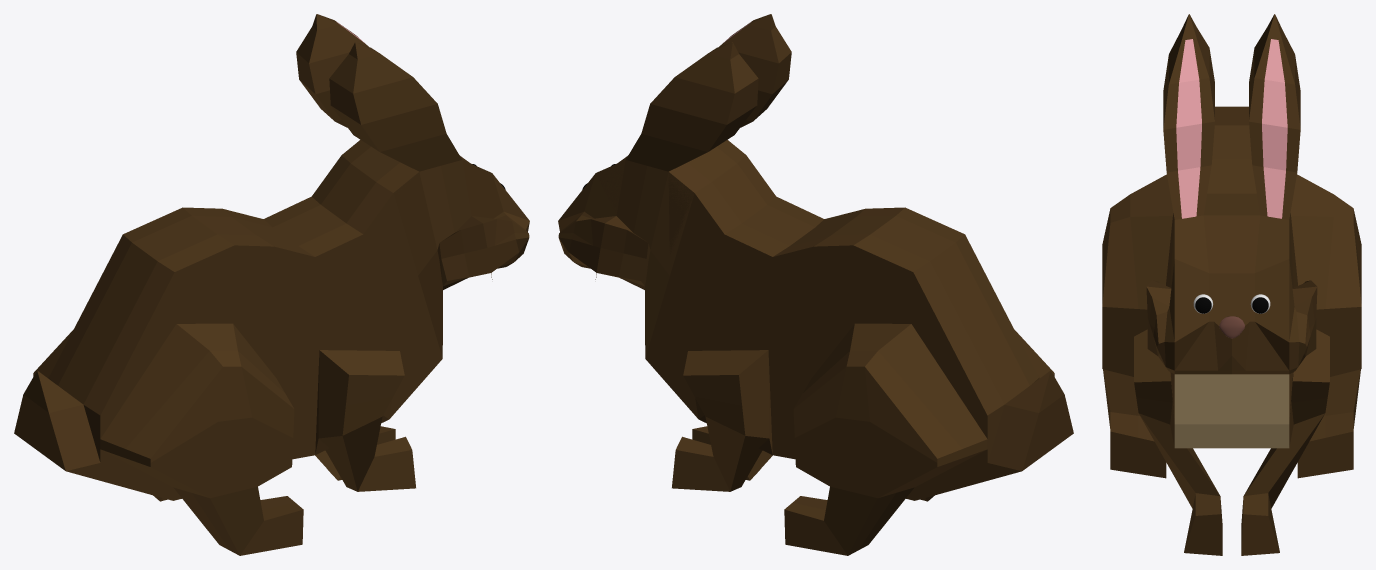
File: davsan.fbx
The picture shows the model from 3 angles, left to right: view 1: azimuth 30°, elevation 25°; view 2: azimuth 150°, elevation 25°; view 3: azimuth 270°, elevation 25°; orthographic projection. The views are drawn at different scales.
Parts seen in each view (by area): view 1: Plane; view 2: Plane; view 3: Plane, Sphere.001, Sphere.002.
Boxes of the visible parts, x1,y1,x2,y2 form: Plane: [14, 14, 529, 555]; Plane: [558, 14, 1073, 555]; Plane: [1102, 14, 1361, 555]; Sphere.001: [1195, 297, 1268, 313]; Sphere.002: [1219, 316, 1244, 338].
Size of the model in its own units: 99.62 by 93.41 by 43.24.
